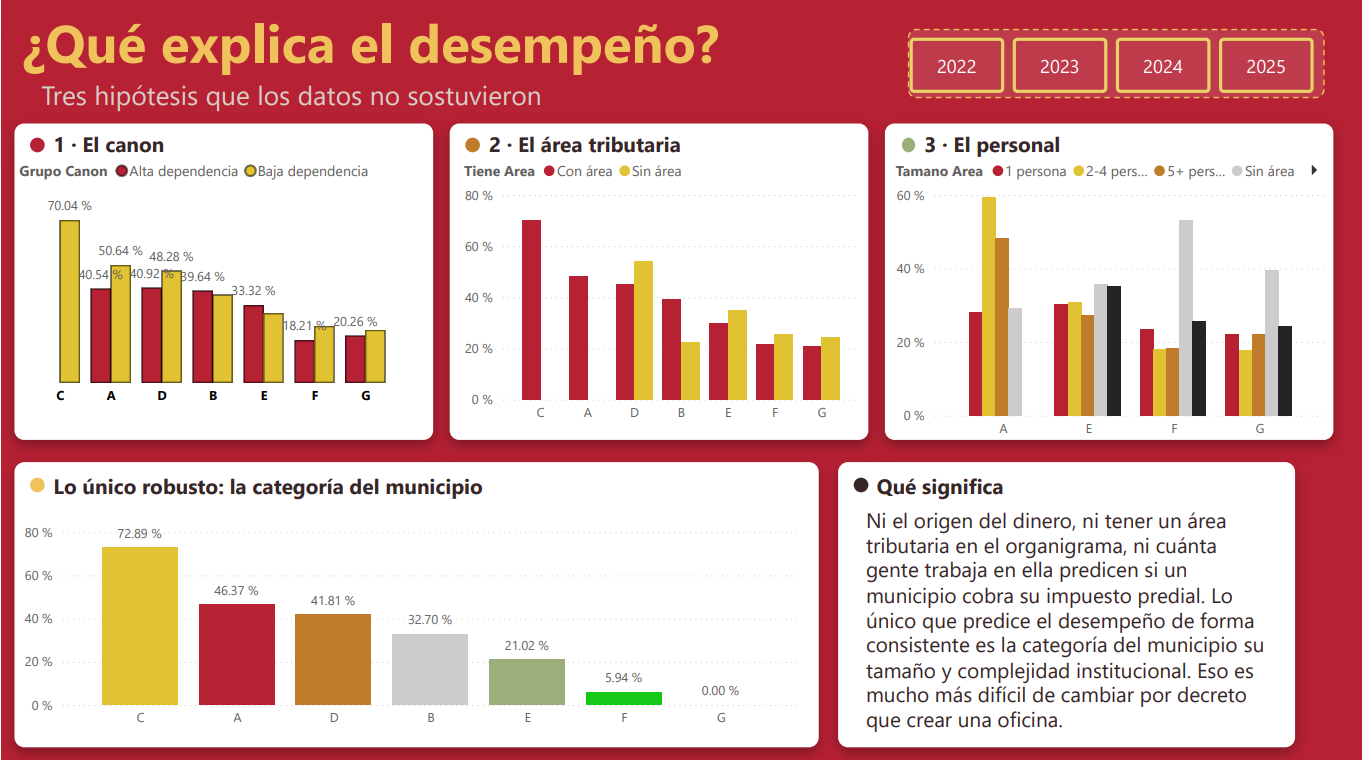

Layout of this report page (visuals, bound fields, positions):
{"tool":"powerbi","page":{"name":"Hipotesis","canvas":[1280,720],"ordinal":4},"visuals":[{"type":"advancedSlicerVisual","fields":{"Values":["DimAño.ANO"]},"box":[850,30,390.9,61.5],"z":0},{"type":"clusteredColumnChart","fields":{"Category":["gold ESTRUCTURA_MUNICIPAL.CLASIFICACION"],"Series":["gold ESTRUCTURA_MUNICIPAL.Grupo Canon"],"Y":["MedidasDAX.Cumplimiento Promedio Estructura"]},"box":[12.9,140,374.3,250],"z":1000},{"type":"clusteredColumnChart","fields":{"Category":["gold ESTRUCTURA_MUNICIPAL.CLASIFICACION"],"Series":["gold ESTRUCTURA_MUNICIPAL.Tiene Area"],"Y":["MedidasDAX.Cumplimiento Promedio Estructura"]},"box":[431.4,140,381.4,265.7],"z":2000},{"type":"clusteredColumnChart","fields":{"Category":["gold ESTRUCTURA_MUNICIPAL.CLASIFICACION"],"Series":["gold ESTRUCTURA_MUNICIPAL.Tamano Area"],"Y":["MedidasDAX.Cumplimiento Promedio Estructura"]},"box":[837.1,140,417.1,281.4],"z":3000},{"type":"columnChart","fields":{"Category":["gold CUMPLIMIENTO_PREDIAL.CLASIFICACION"],"Y":["MedidasDAX.Cumplimiento Mediano"]},"box":[17.1,477.1,738.6,215.7],"z":4000}]}

Visuals, with their boxes in screenshot pixels (x1, y1, x2, y2), scaled from the page's 1280x720 canvas onto the 1362x760 screenshot:
advancedSlicerVisual - DimAño.ANO: bbox=[904, 32, 1320, 97]
clusteredColumnChart - gold ESTRUCTURA_MUNICIPAL.CLASIFICACION x gold ESTRUCTURA_MUNICIPAL.Grupo Canon: bbox=[14, 148, 412, 412]
clusteredColumnChart - gold ESTRUCTURA_MUNICIPAL.CLASIFICACION x gold ESTRUCTURA_MUNICIPAL.Tiene Area: bbox=[459, 148, 865, 428]
clusteredColumnChart - gold ESTRUCTURA_MUNICIPAL.CLASIFICACION x gold ESTRUCTURA_MUNICIPAL.Tamano Area: bbox=[891, 148, 1335, 445]
columnChart - gold CUMPLIMIENTO_PREDIAL.CLASIFICACION x MedidasDAX.Cumplimiento Mediano: bbox=[18, 504, 804, 731]
